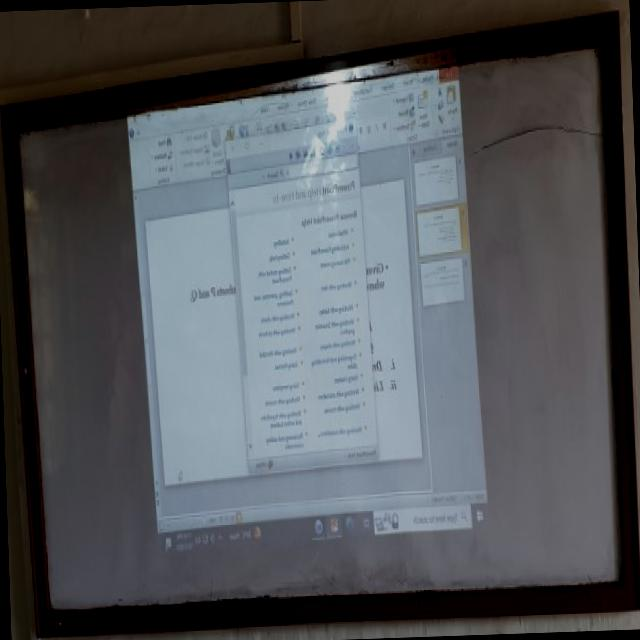Slide: (126, 43, 491, 561)
White-board: (9, 25, 632, 625)
